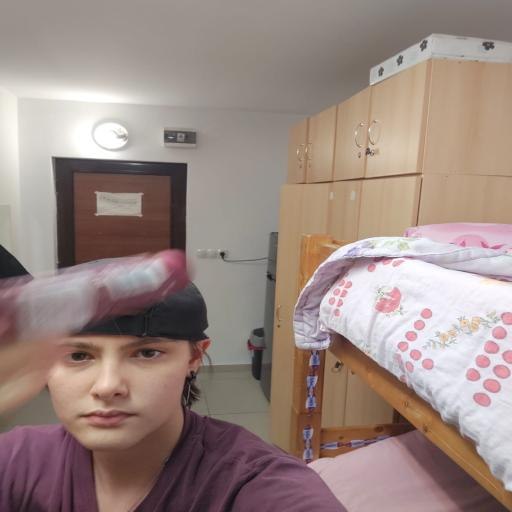Hand Cream: (1, 248, 192, 331)
